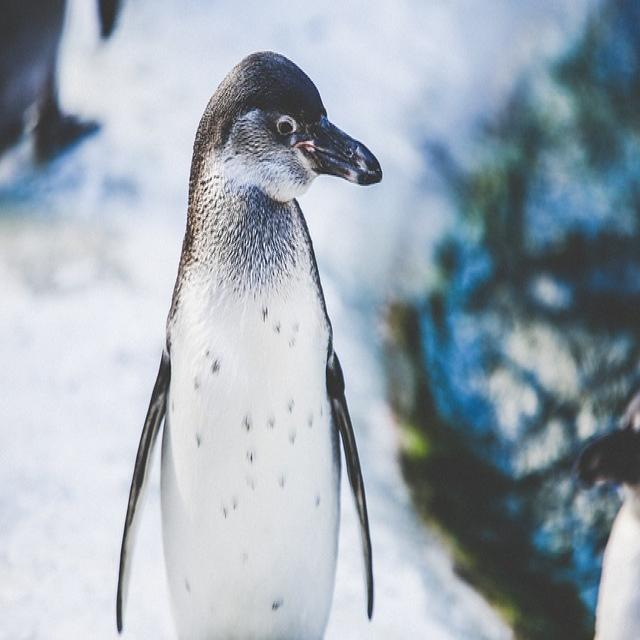Carnivorous: (112, 52, 383, 640)
